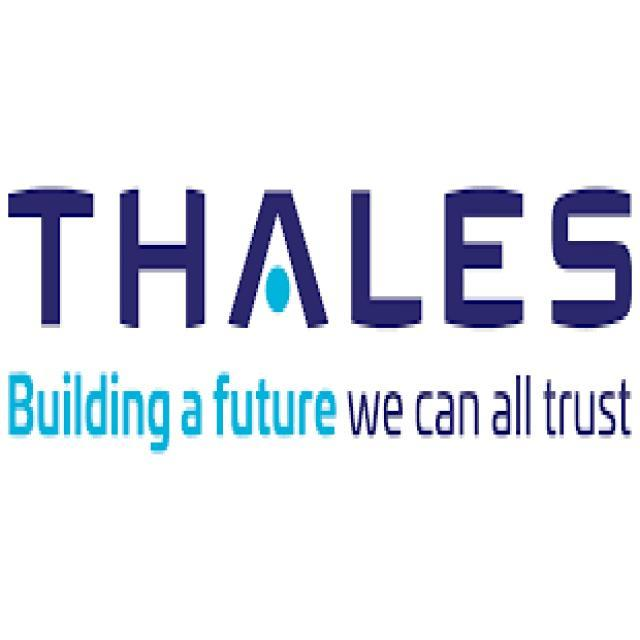thales: (6, 190, 634, 437)
